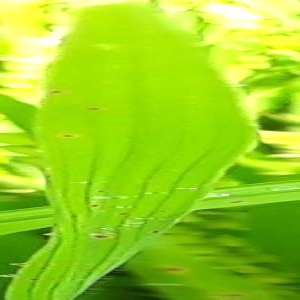Bacterial_Leaf_Blight: (84, 229, 113, 244), (56, 126, 79, 143), (102, 192, 128, 203), (85, 101, 105, 115), (49, 84, 65, 98), (26, 274, 41, 284), (88, 199, 100, 211), (149, 187, 163, 196), (150, 227, 162, 237), (116, 210, 129, 218), (67, 211, 78, 220), (96, 187, 106, 194), (51, 221, 59, 229)
